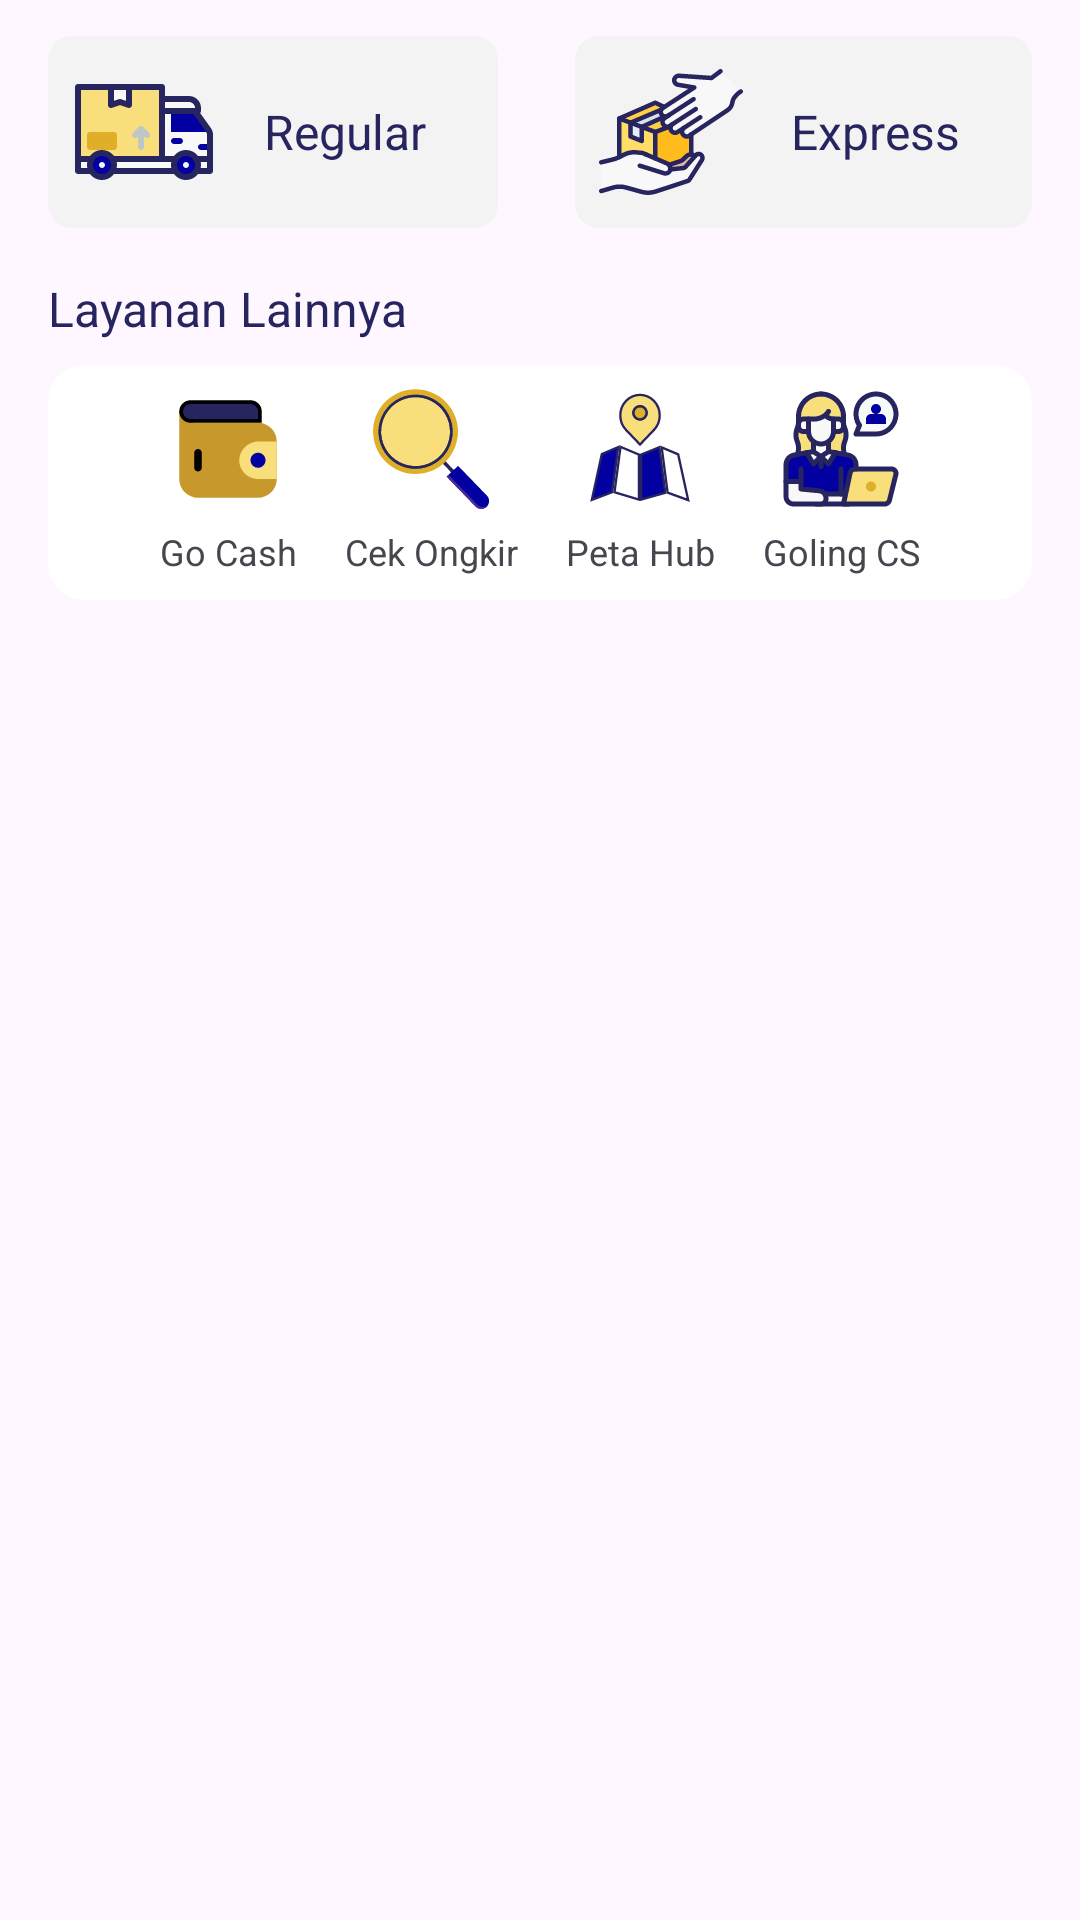

Point at icon controls on the screen. Image size 1080px x 1920px, points as (x,y).
Drop Off: (671,132)
peta drop off: (640,447)
Pick Up: (144,132)
